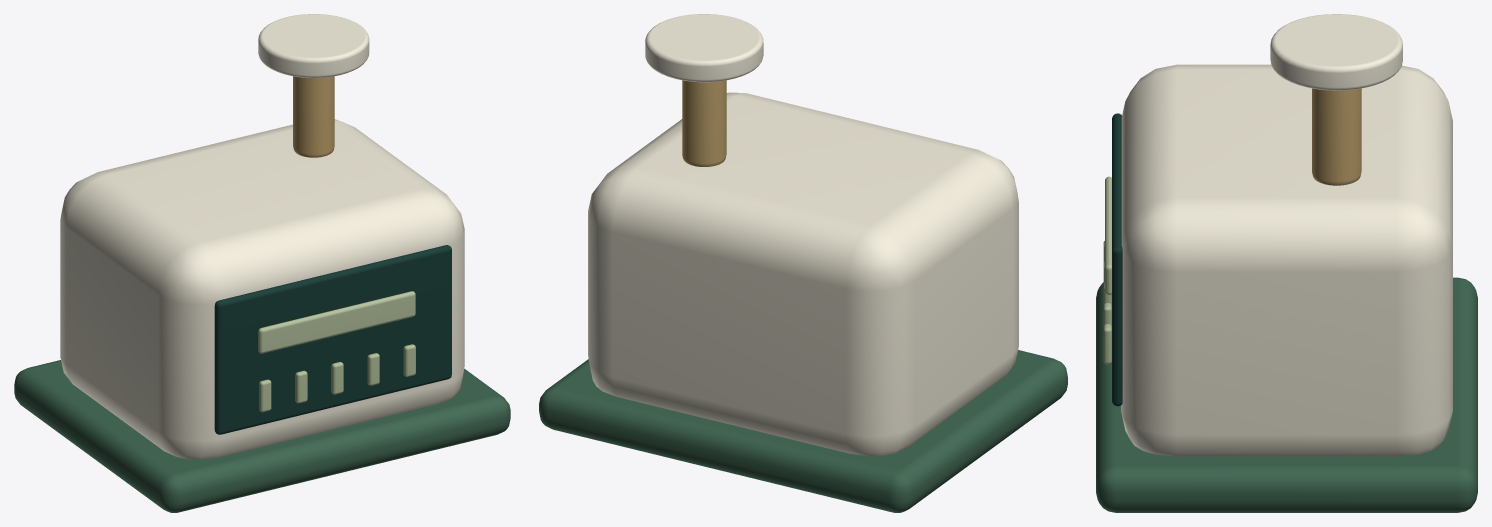
File: sensor.glb
3 views of the same model, side by side, from view 1: azimuth 30°, elevation 25°; view 2: azimuth 150°, elevation 25°; view 3: azimuth 270°, elevation 25° (orthographic). The views are drawn at different scales.
Visible parts, largest first — view 1: Instrument porcelain, Recessed optics, Instrument forest, SignalLens, Inlet satin brass, Instrument sage; view 2: Instrument porcelain, Instrument forest, Inlet satin brass; view 3: Instrument porcelain, Instrument forest, Inlet satin brass, Recessed optics, SignalLens, Instrument sage.
Boxes of the visible parts, <box> form: Instrument porcelain: <box>60,14,464,459</box>; Recessed optics: <box>214,245,451,434</box>; Instrument forest: <box>14,360,510,512</box>; SignalLens: <box>258,291,415,353</box>; Inlet satin brass: <box>293,76,334,157</box>; Instrument sage: <box>259,344,415,412</box>; Instrument porcelain: <box>588,14,1018,456</box>; Instrument forest: <box>539,350,1067,512</box>; Inlet satin brass: <box>682,80,726,166</box>; Instrument porcelain: <box>1121,14,1452,456</box>; Instrument forest: <box>1096,277,1477,512</box>; Inlet satin brass: <box>1312,88,1361,185</box>; Recessed optics: <box>1112,113,1122,406</box>; SignalLens: <box>1105,176,1111,294</box>; Instrument sage: <box>1103,241,1111,364</box>.
Size of the model in its own units: 1.45 by 1.4 by 1.15.
